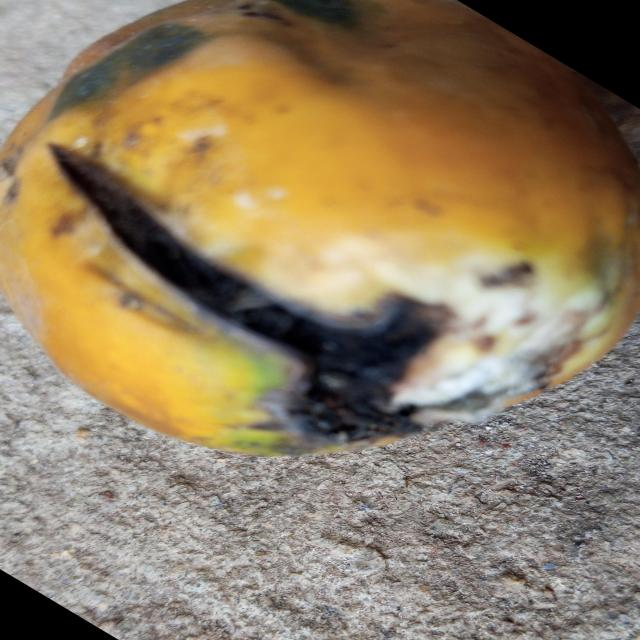damaged: (0, 0, 640, 459)
